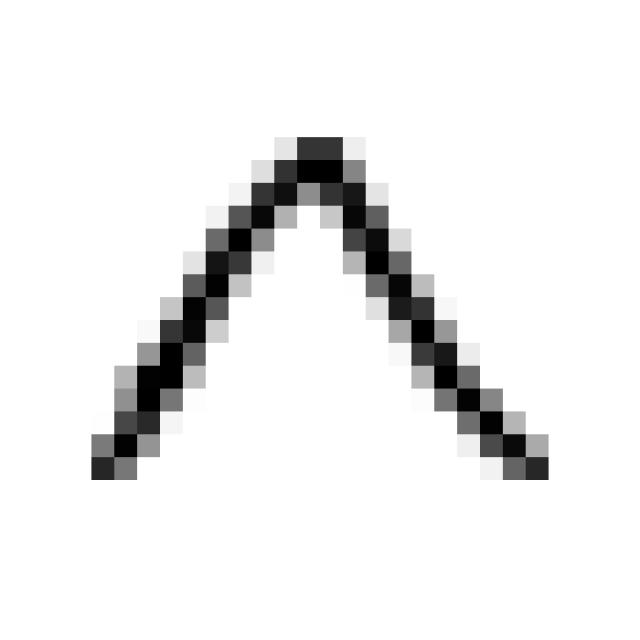8 -eight-: (62, 114, 564, 510)
